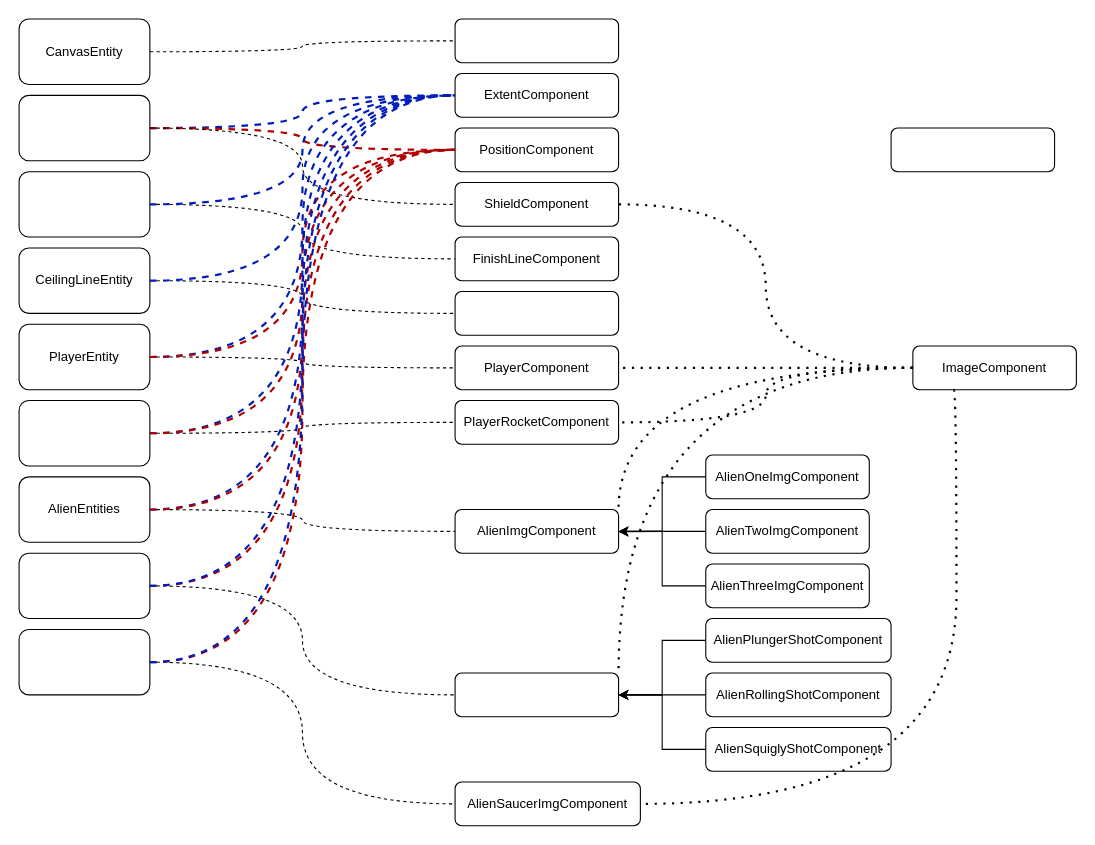
Image size: 1095x845. Some labels were removed from this diagram. The box of each missing label's shape, as (x1, y1, x2, y2) in pixels:
AlienRocketComponent: (454, 672, 619, 717)
AlienRocketEntities: (18, 552, 150, 619)
AlienSaucerEntity: (18, 628, 150, 695)
CanvasComponent: (454, 18, 619, 63)
CeilingLineComponent: (454, 290, 619, 335)
Component: (890, 127, 1055, 172)
FinishLineEntity: (18, 171, 150, 237)
PlayerRocketEntities: (18, 399, 150, 466)
ShieldEntity: (18, 94, 150, 161)
